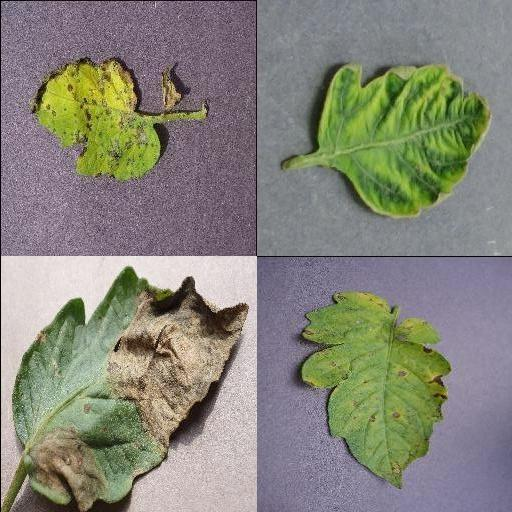Late Blight: (10, 266, 250, 512)
Septoria: (298, 287, 451, 489), (27, 57, 161, 179)
Yellow Leaf Curl Virus: (314, 63, 492, 219)
